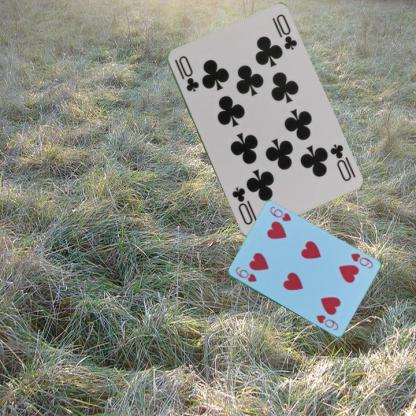10c: (172, 52, 200, 93), (326, 141, 352, 183)
6h: (232, 264, 258, 284), (348, 250, 374, 270)
